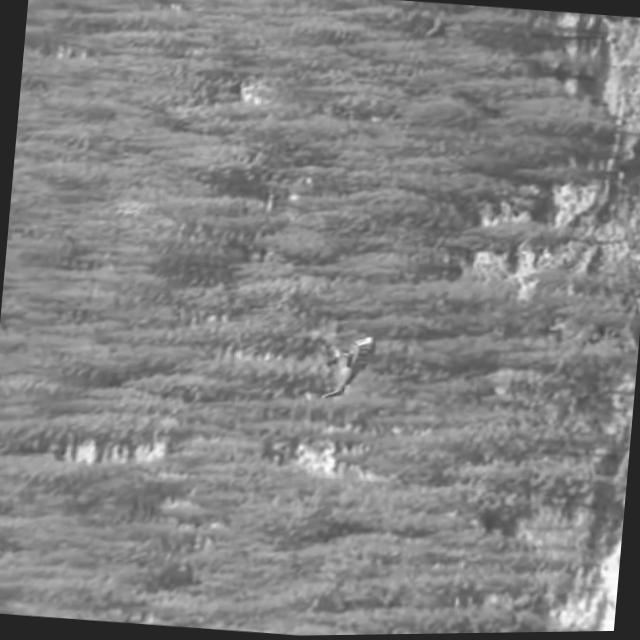helikopter: (300, 300, 388, 419)
